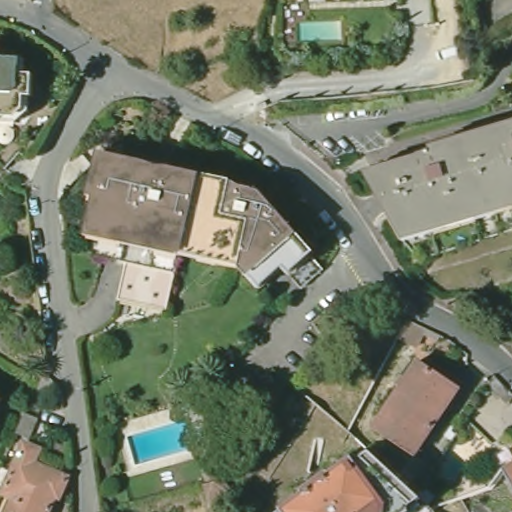pool: (126, 418, 205, 467)
